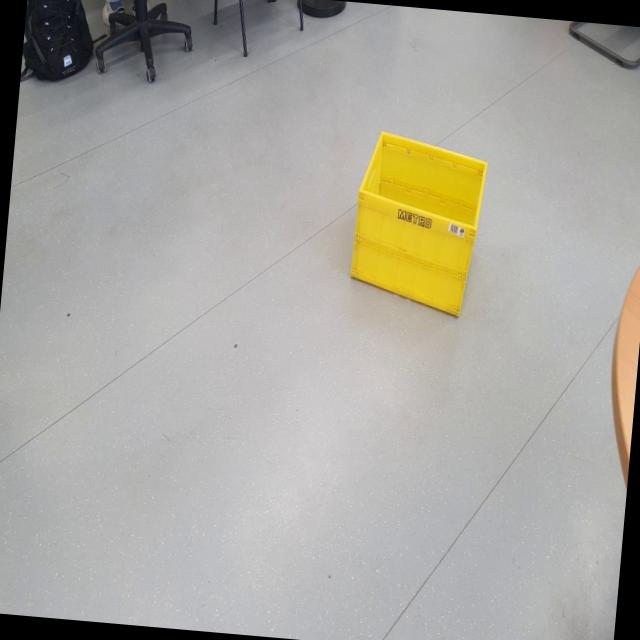box: (340, 112, 494, 333)
